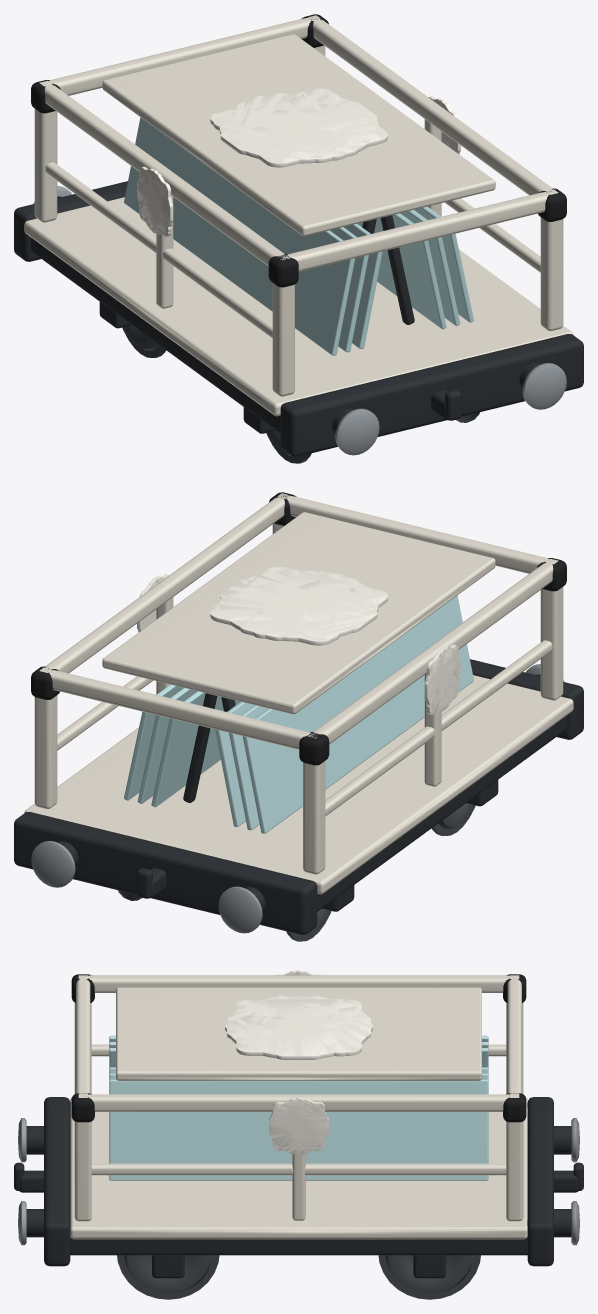
Rendered from wagon_glass.glb.
3 views of the same model, one above another, from view 1: azimuth 30°, elevation 25°; view 2: azimuth 150°, elevation 25°; view 3: azimuth 270°, elevation 25° (orthographic). The views are drawn at different scales.
Parts seen in each view (by area): view 1: Body, Sym_circle, Sym_cross, Sym_square, Sym_diamond, Sym_triangle, Sym_star; view 2: Body, Sym_circle, Sym_square, Sym_cross, Sym_diamond, Sym_star, Sym_triangle; view 3: Body, Sym_circle, Sym_cross, Sym_square, Sym_diamond, Sym_triangle, Sym_star.
Part boxes in pixels (left/top/right/bottom): Body: left=14, top=14, right=583, bottom=463; Sym_circle: left=137, top=92, right=459, bottom=234; Sym_cross: left=137, top=93, right=460, bottom=234; Sym_square: left=139, top=88, right=458, bottom=236; Sym_diamond: left=139, top=95, right=453, bottom=233; Sym_triangle: left=139, top=92, right=453, bottom=232; Sym_star: left=137, top=91, right=452, bottom=234; Body: left=14, top=492, right=583, bottom=941; Sym_circle: left=138, top=570, right=460, bottom=712; Sym_square: left=139, top=566, right=458, bottom=714; Sym_cross: left=137, top=571, right=460, bottom=712; Sym_diamond: left=142, top=573, right=459, bottom=711; Sym_star: left=150, top=576, right=459, bottom=705; Sym_triangle: left=147, top=579, right=458, bottom=710; Body: left=14, top=974, right=583, bottom=1299; Sym_circle: left=227, top=972, right=370, bottom=1153; Sym_cross: left=227, top=971, right=370, bottom=1154; Sym_square: left=236, top=974, right=361, bottom=1150; Sym_diamond: left=225, top=970, right=372, bottom=1154; Sym_triangle: left=241, top=998, right=352, bottom=1146; Sym_star: left=234, top=974, right=361, bottom=1149.
Bounding box in the file's own units: 0.48 × 0.399 × 0.872.
